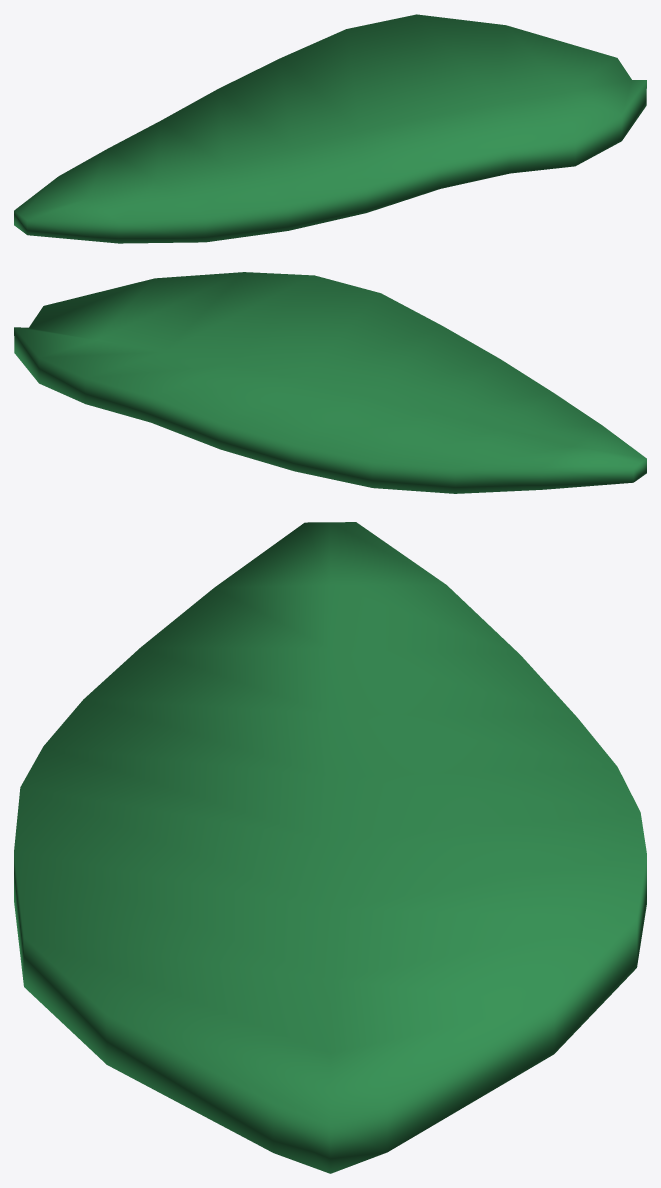
File: leaf.fbx
The picture shows the model from 3 angles, top to bottom: view 1: azimuth 30°, elevation 25°; view 2: azimuth 150°, elevation 25°; view 3: azimuth 270°, elevation 25°; orthographic projection. The views are drawn at different scales.
Parts seen in each view (by area): view 1: leaf; view 2: leaf; view 3: leaf.
Boxes of the visible parts, box(x1,y1,x2,y2) form: leaf: box(14, 14, 646, 243); leaf: box(14, 272, 646, 493); leaf: box(14, 522, 646, 1173).
Bounding box in the file's own units: 641 × 68.11 × 298.
